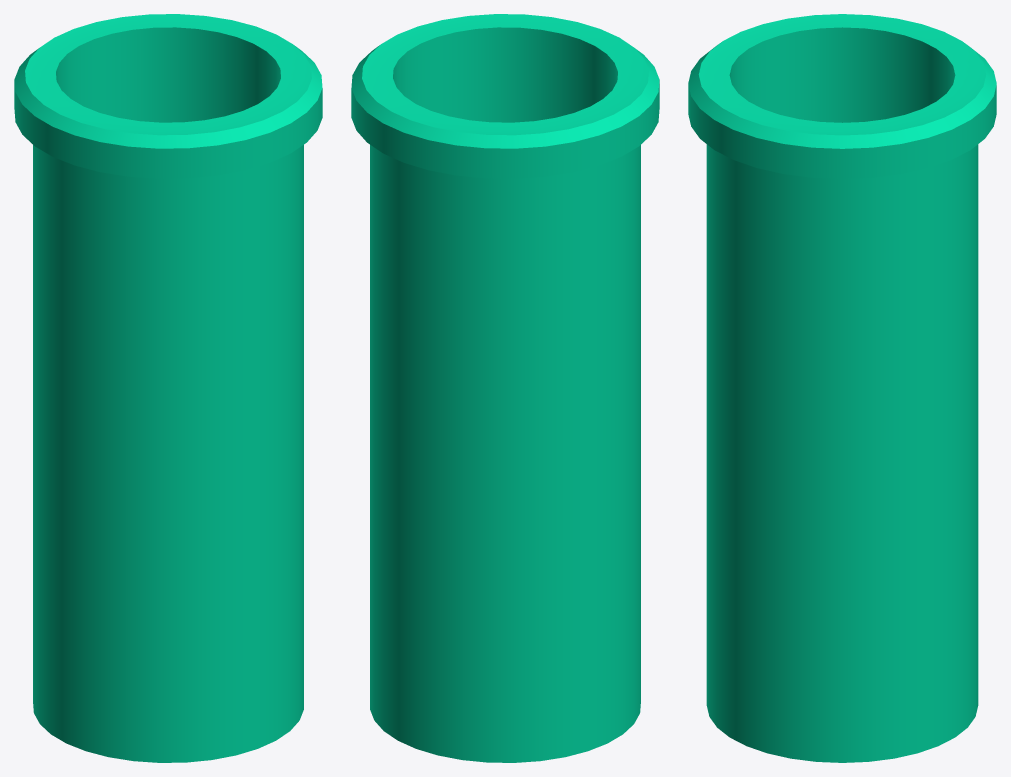
3 renders of one model, left to right at view 1: azimuth 30°, elevation 25°; view 2: azimuth 150°, elevation 25°; view 3: azimuth 270°, elevation 25°, orthographic.
Parts seen in each view (by area): view 1: Cylinder; view 2: Cylinder; view 3: Cylinder.
Boxes of the visible parts, x1,y1,x2,y2 form: Cylinder: [14, 14, 322, 762]; Cylinder: [351, 14, 659, 762]; Cylinder: [688, 14, 996, 762].
Bounding box in the file's own units: 227 × 513 × 227.
